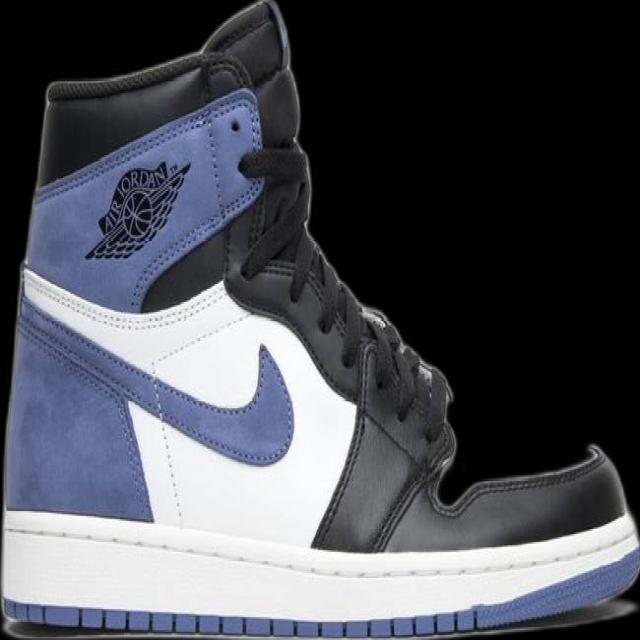J1_InsoleChar: (0, 0, 639, 639)
J1_ShoeLogo: (83, 157, 191, 261)
J1_StitchPattern: (0, 507, 638, 635), (353, 303, 612, 545), (17, 269, 296, 468), (232, 141, 373, 374), (287, 227, 436, 420), (3, 601, 479, 639), (18, 265, 228, 333), (427, 441, 609, 518), (286, 227, 368, 369), (43, 49, 254, 104), (236, 140, 313, 280), (355, 304, 436, 423)
